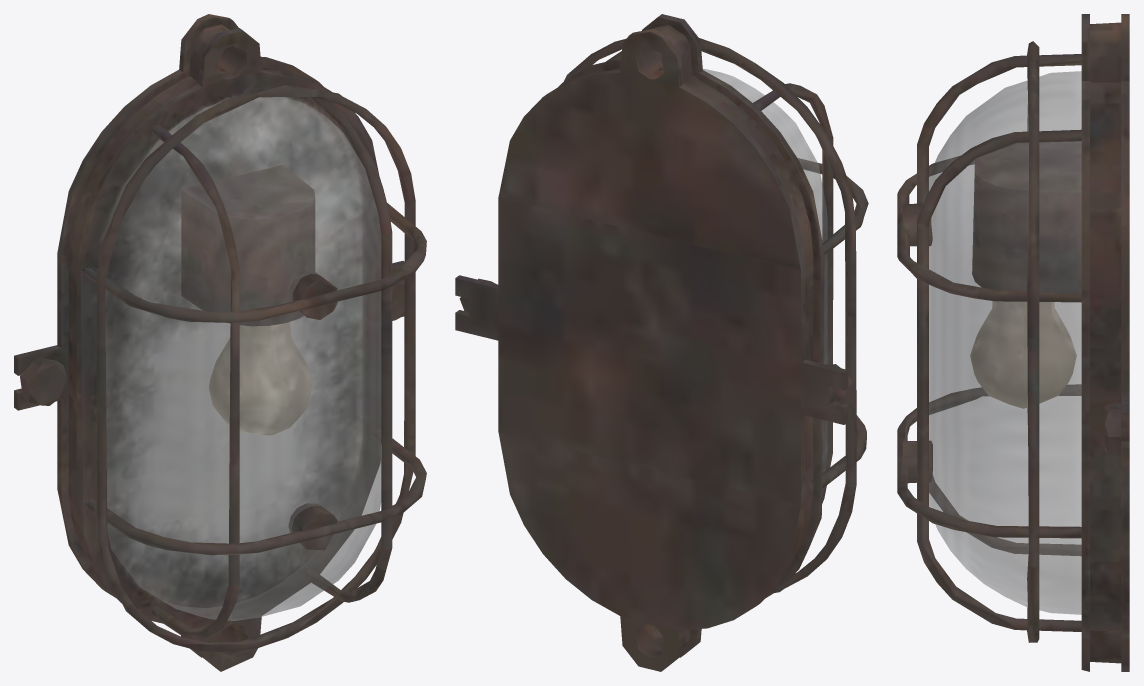
The model's file is lampWall.glb.
3 renders of one model, left to right at view 1: azimuth 30°, elevation 25°; view 2: azimuth 150°, elevation 25°; view 3: azimuth 270°, elevation 25°, orthographic.
Parts seen in each view (by area): view 1: industrial_wall_lamp; view 2: industrial_wall_lamp; view 3: industrial_wall_lamp.
Part boxes in pixels (bbox=[...]): industrial_wall_lamp: bbox=[14, 14, 426, 671]; industrial_wall_lamp: bbox=[455, 14, 868, 671]; industrial_wall_lamp: bbox=[897, 14, 1129, 671].
Bounding box in the file's own units: 0.2734 × 0.4283 × 0.1389.
2 materials, 2 textured.
